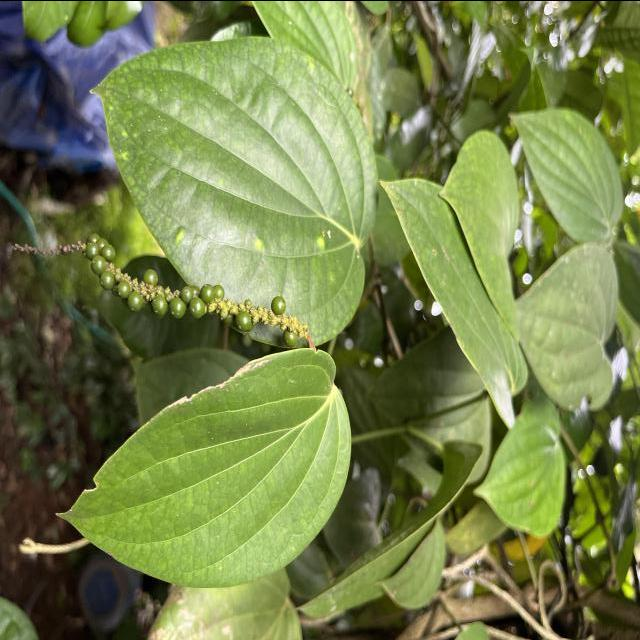Piper nigrum: (87, 34, 381, 347), (54, 347, 354, 588)
